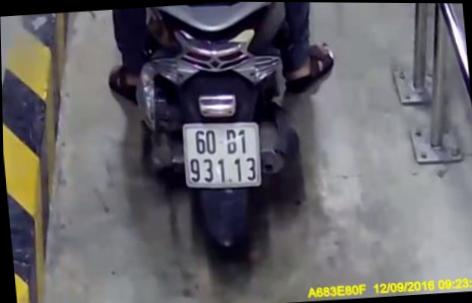LP: (178, 117, 264, 193)
